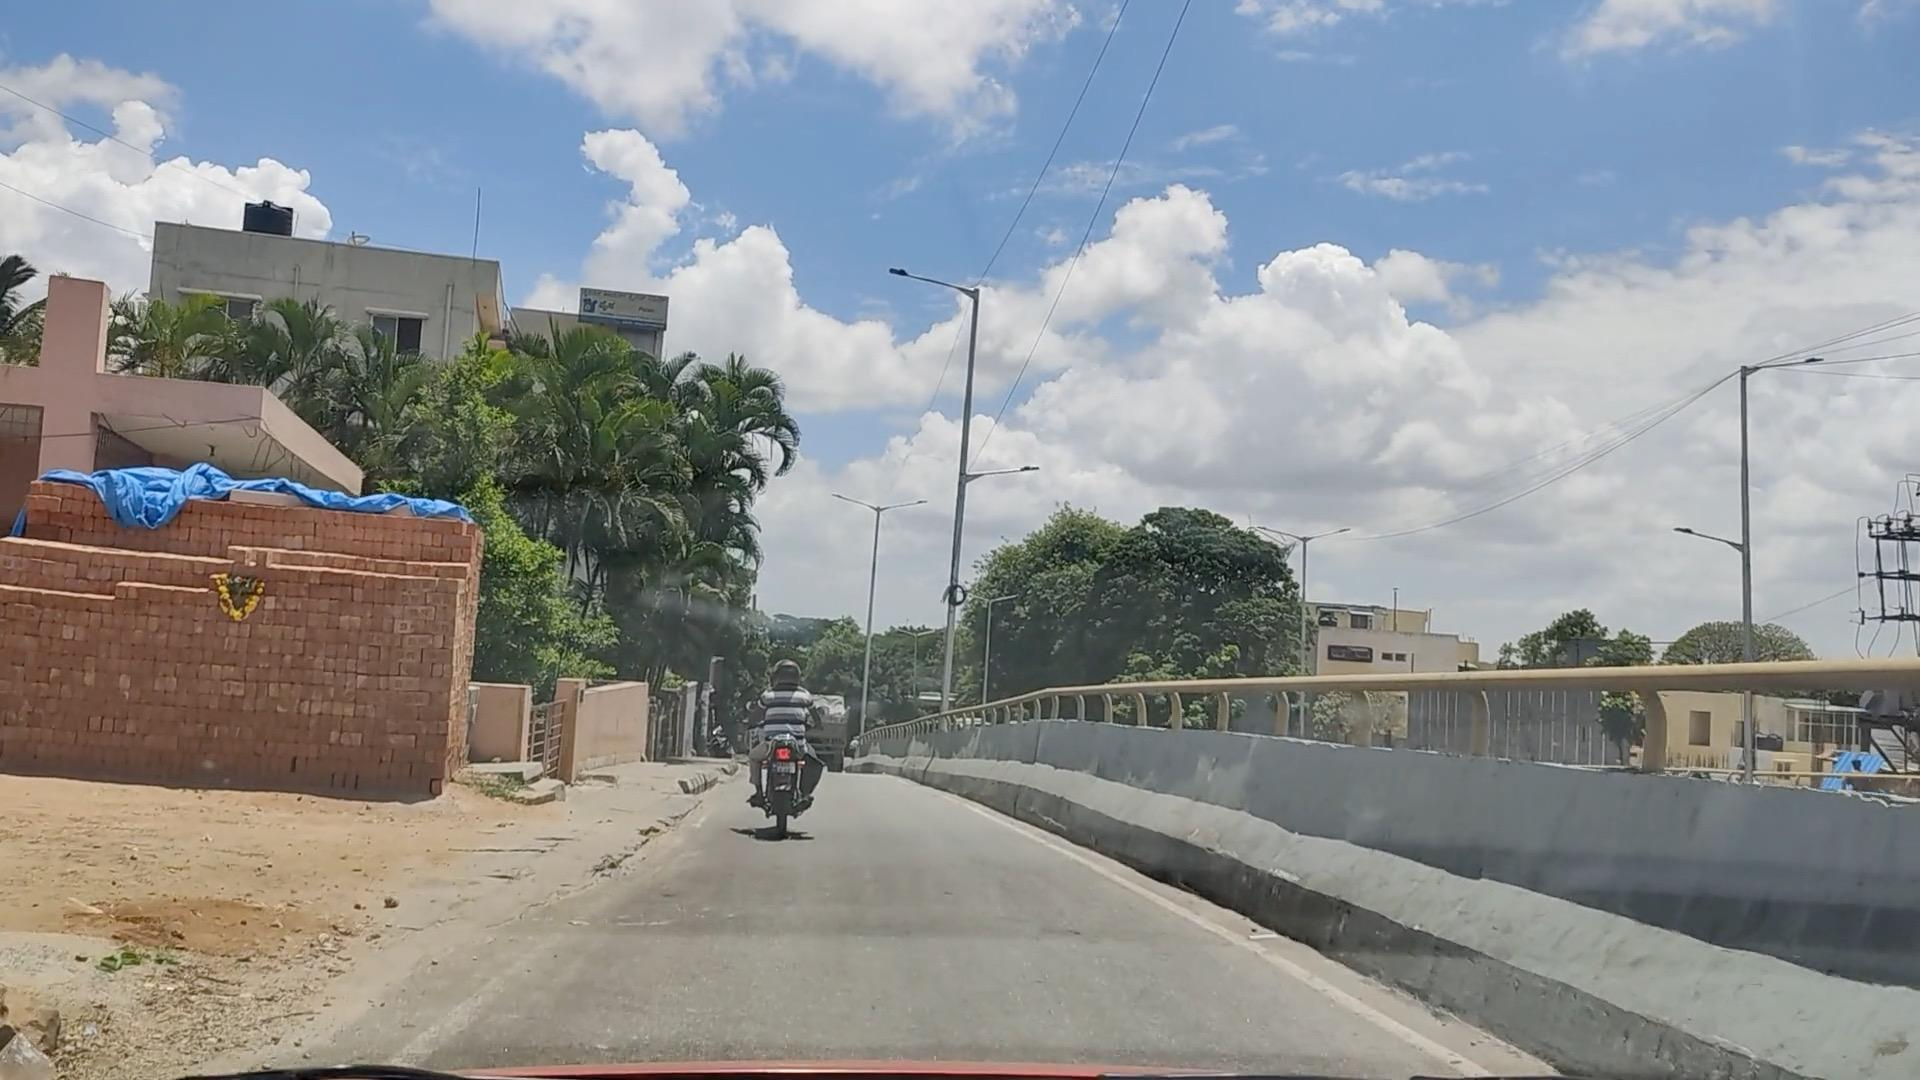LMV: (740, 633, 815, 822)
